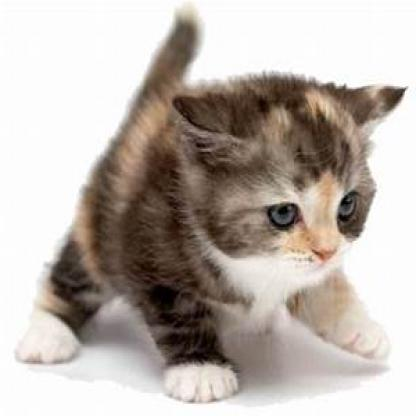cat: (18, 84, 408, 408)
